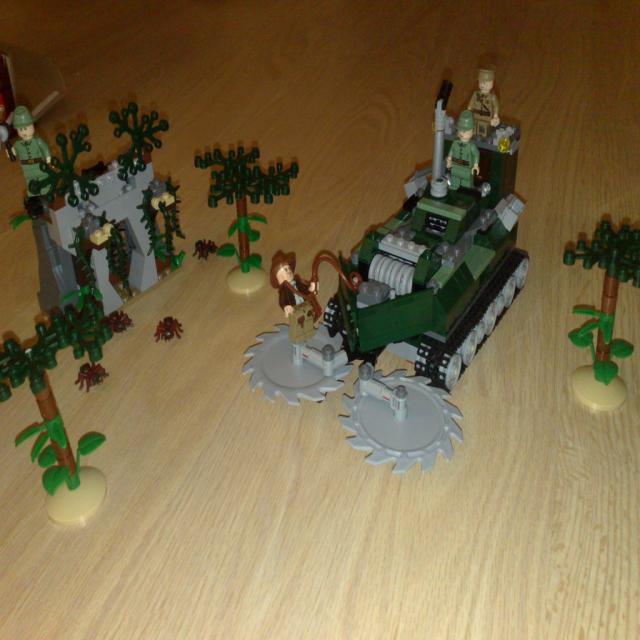Toy: (0, 54, 640, 525)
